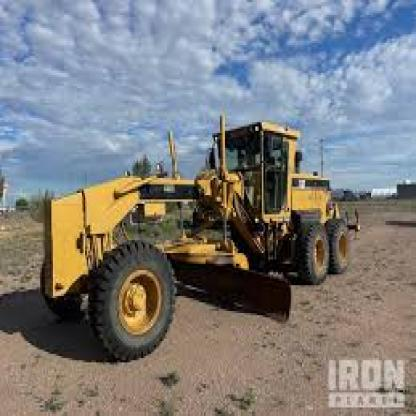bull_dozer/loader/grader: (26, 92, 379, 365)
